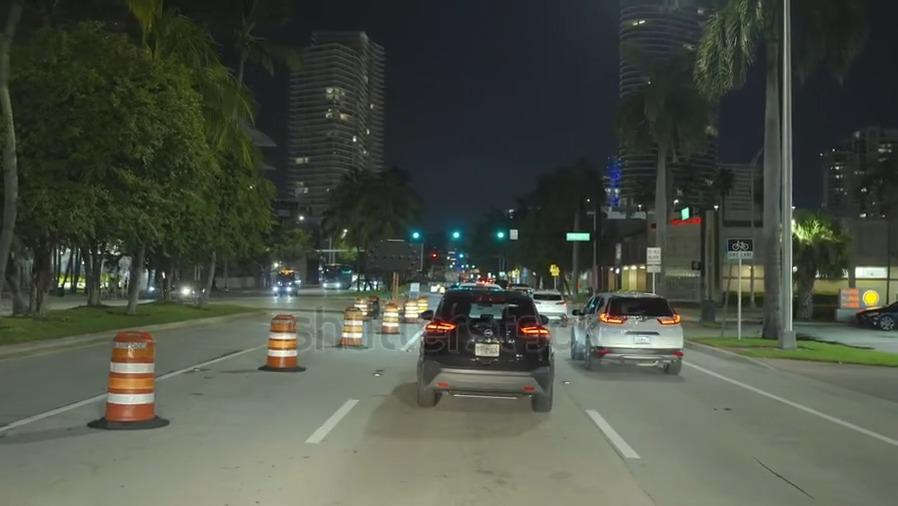bus: (317, 259, 355, 293), (277, 266, 303, 287)
car: (416, 285, 554, 412), (576, 291, 684, 371), (529, 287, 570, 323), (853, 299, 898, 329), (181, 275, 209, 303), (145, 275, 170, 296), (273, 280, 295, 298)
cone: (103, 326, 155, 420), (266, 311, 298, 371), (339, 303, 363, 347), (381, 299, 399, 335), (401, 299, 414, 324), (415, 295, 427, 318), (357, 295, 367, 315)
traffic light: (487, 221, 513, 251), (444, 220, 466, 250), (406, 226, 427, 247)
